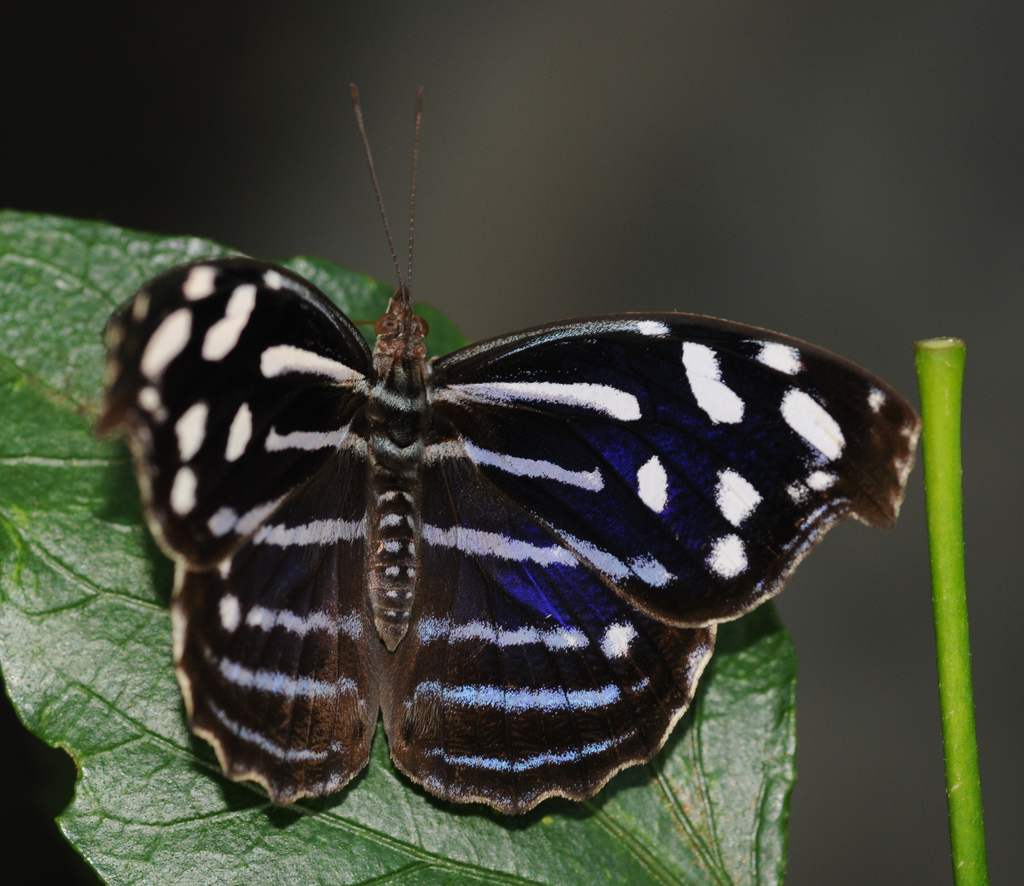Butterfly: (91, 226, 939, 818)
